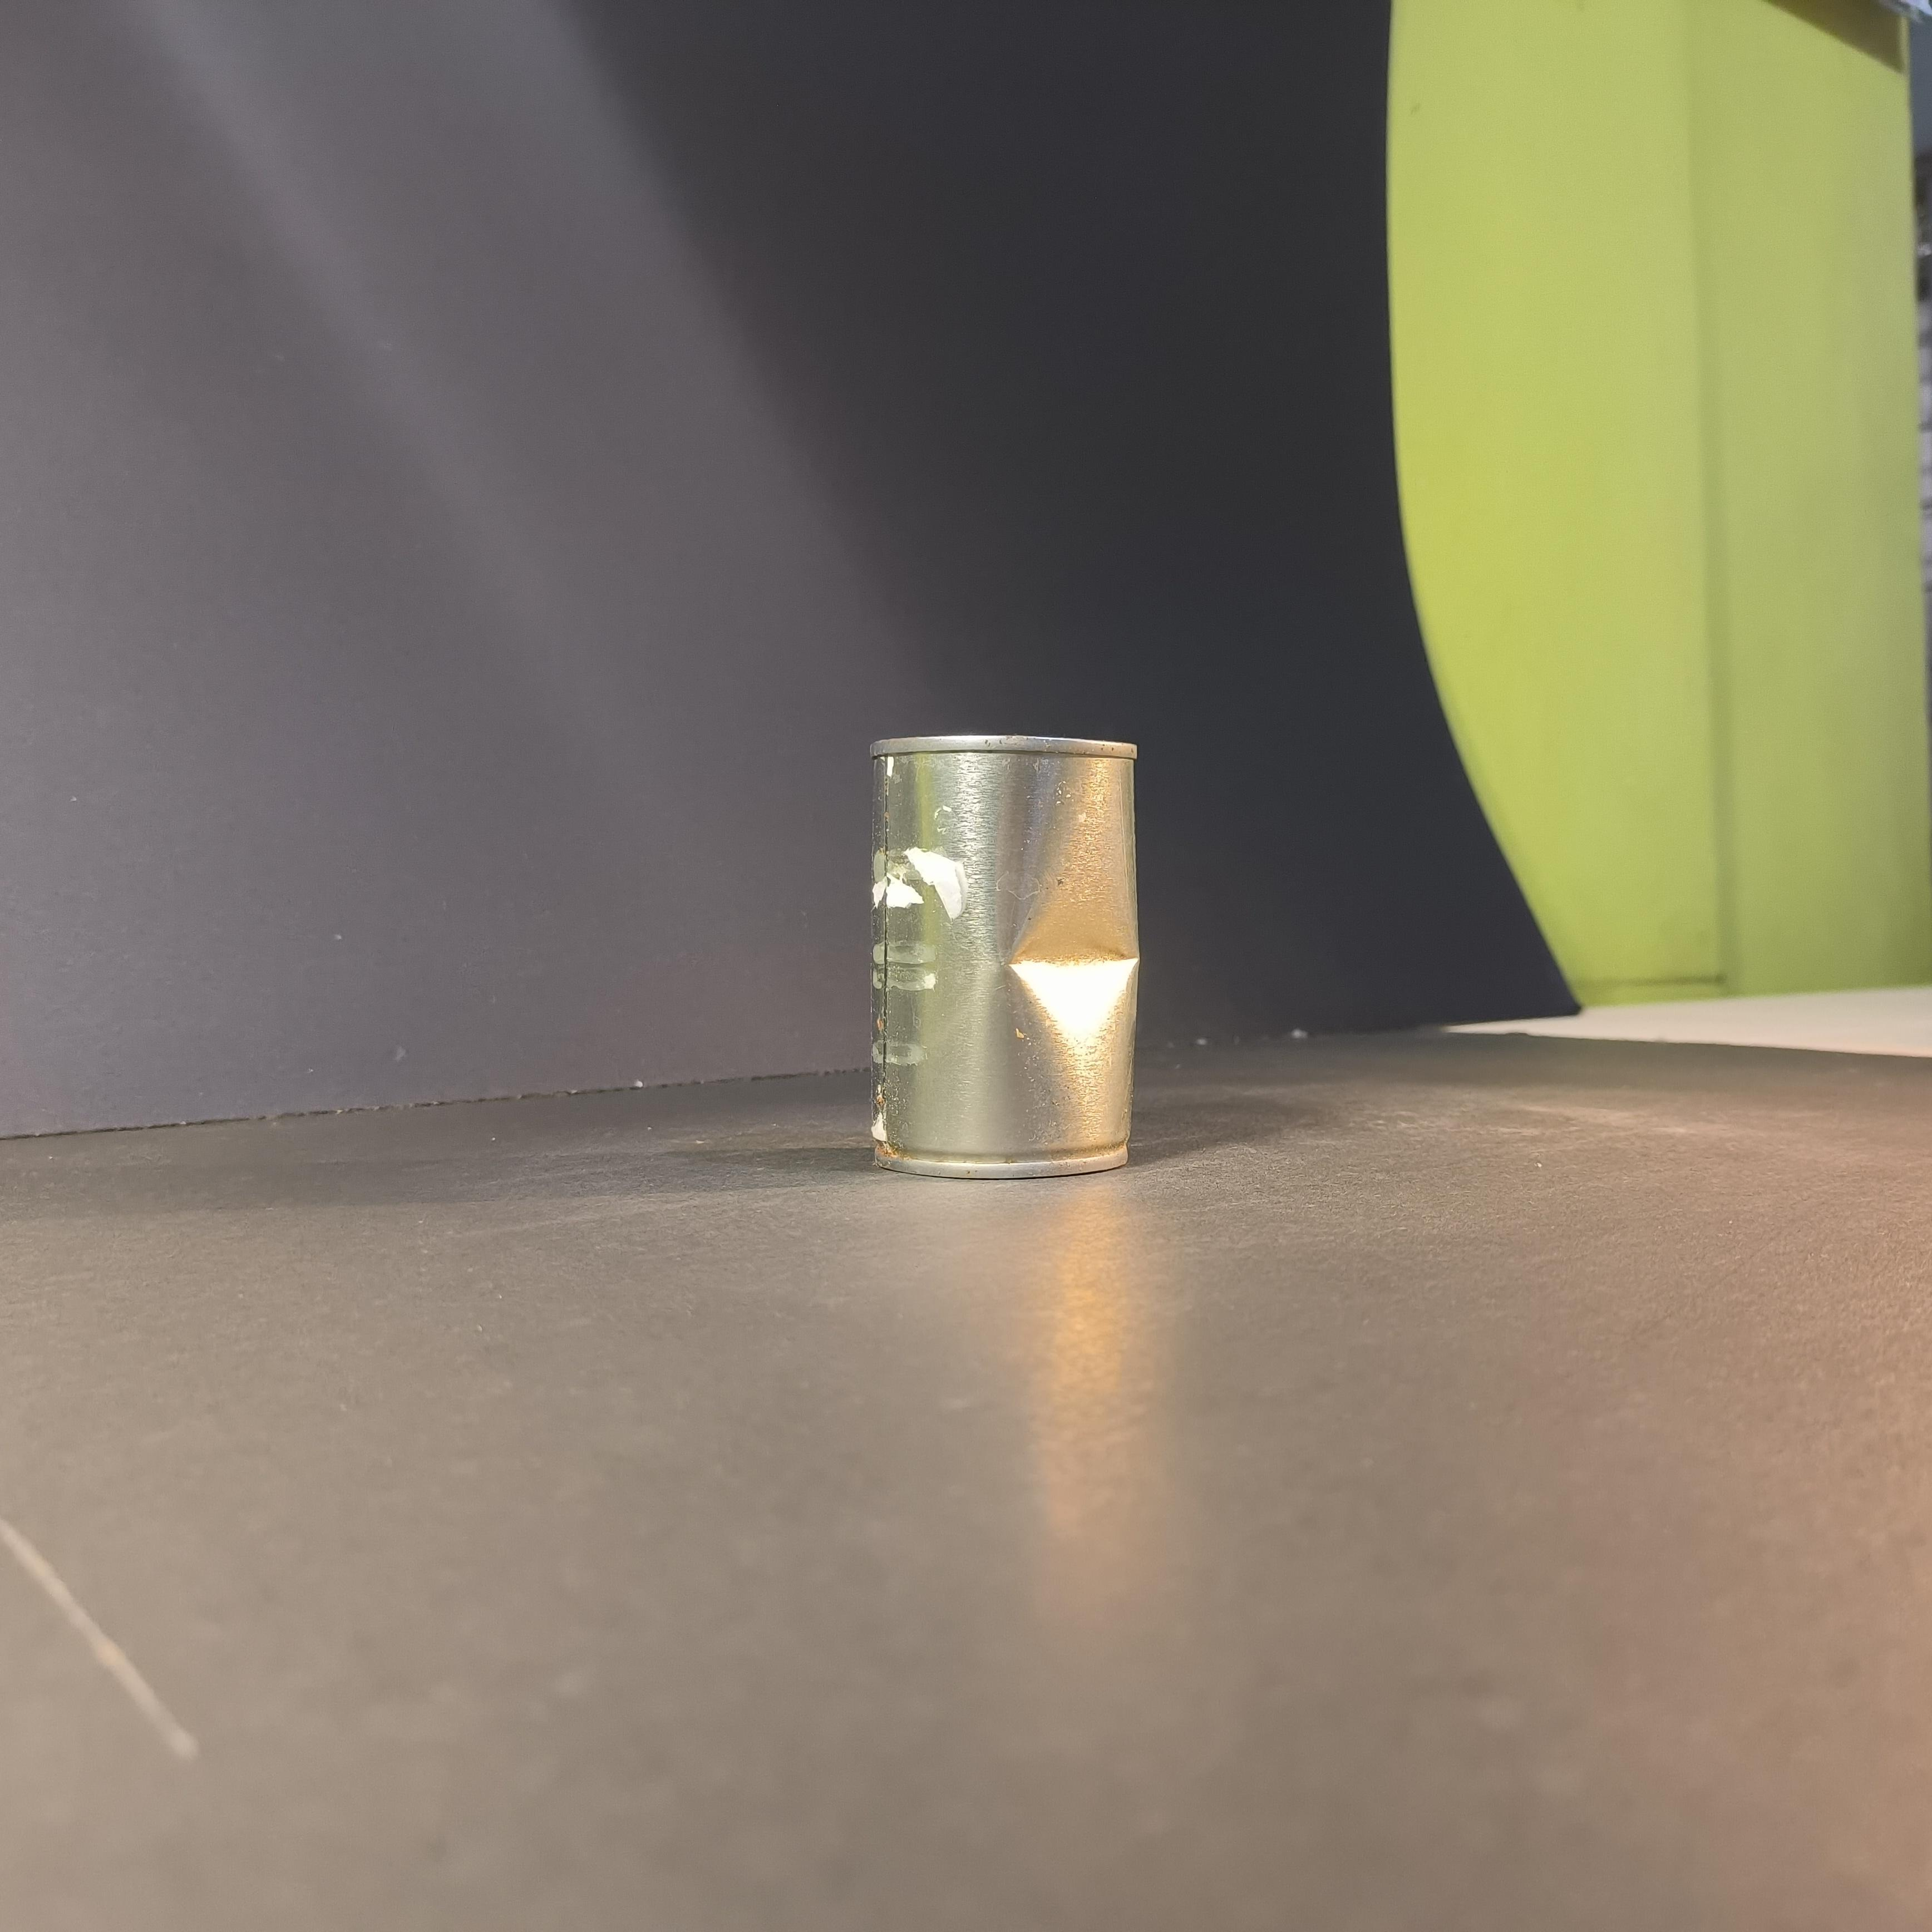Dented: (855, 709, 1171, 1207)
